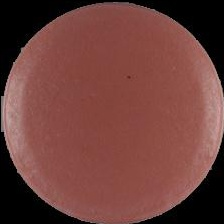61919-575: (0, 0, 224, 224)
